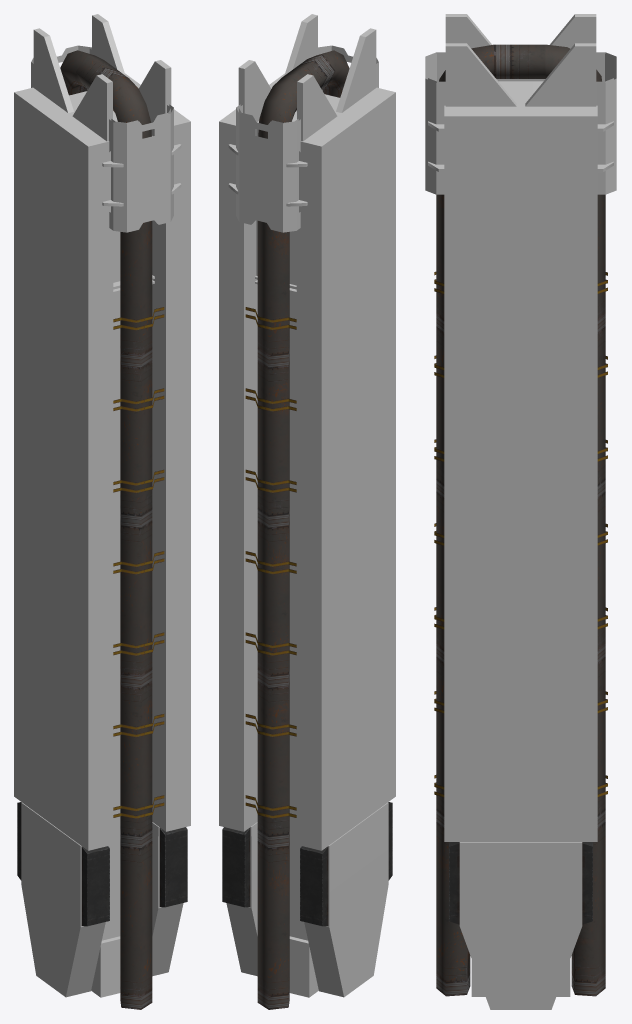
Rendered from Wall_Large_05_phys.fbx.
3 views of the same model, side by side, from view 1: azimuth 30°, elevation 25°; view 2: azimuth 150°, elevation 25°; view 3: azimuth 270°, elevation 25° (orthographic). The views are drawn at different scales.
Visible parts, largest first — view 1: Wall_Large_05_phys; view 2: Wall_Large_05_phys; view 3: Wall_Large_05_phys.
Part boxes in pixels (x1,y1,x2,y2): Wall_Large_05_phys: (14, 14, 190, 1009); Wall_Large_05_phys: (219, 14, 395, 1009); Wall_Large_05_phys: (425, 14, 616, 1009).
Bounding box in the file's own units: 398 × 3432 × 626.
